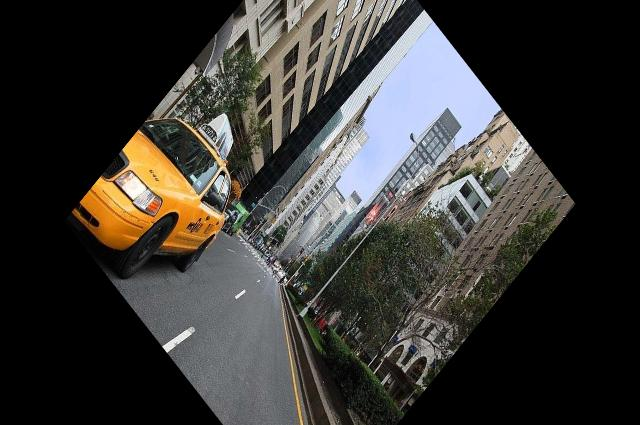taxi: (45, 115, 239, 273)
